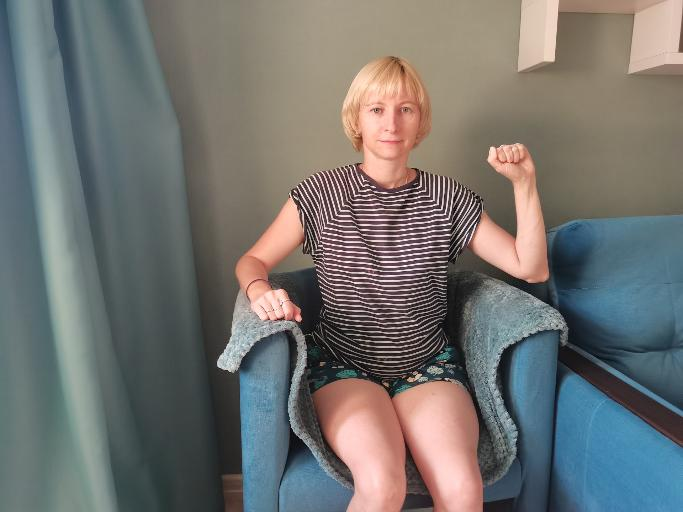fist: (485, 138, 536, 181)
no_gesture: (248, 287, 302, 324)
